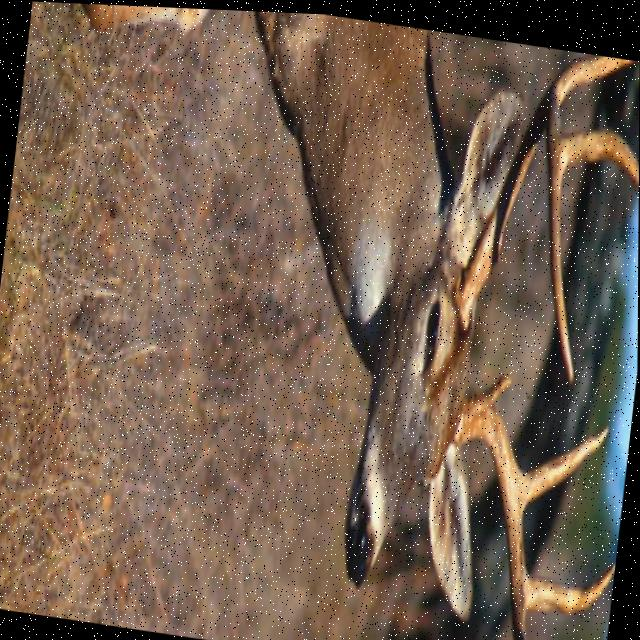L-F: (454, 80, 575, 381)
L-G1: (551, 47, 639, 99)
L-G2: (560, 121, 639, 182)
R-F: (453, 386, 528, 640)
R-G1: (483, 367, 512, 399)
R-G2: (521, 418, 610, 503)
R-G3: (526, 555, 616, 608)
